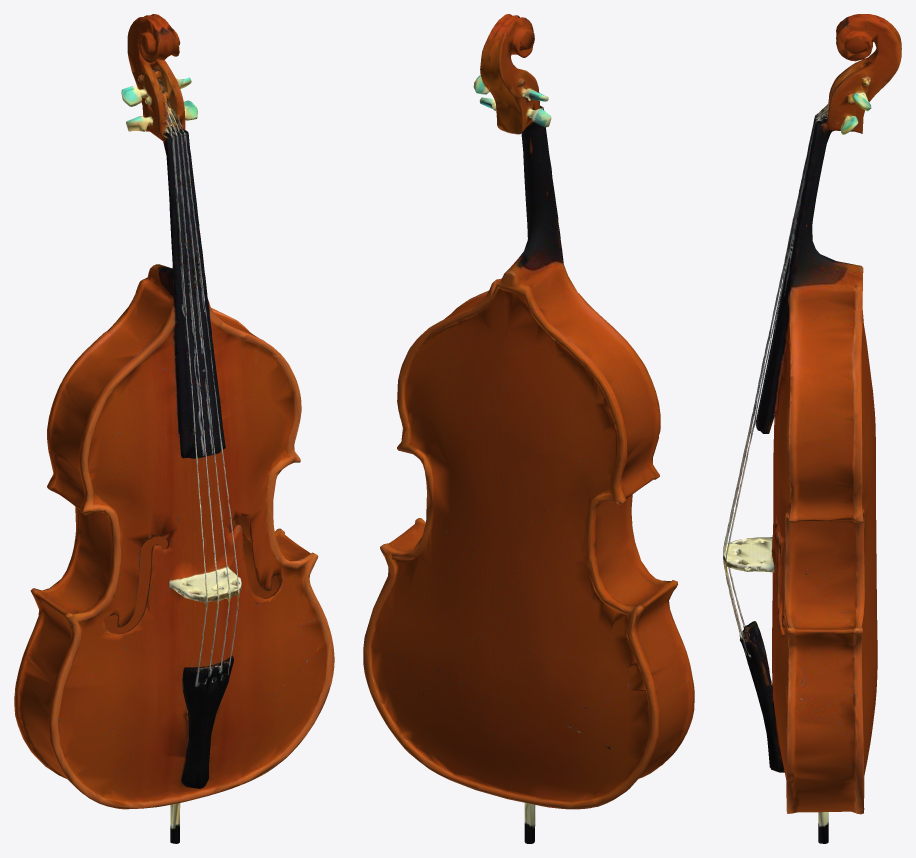
The model's file is bass.glb.
The picture shows the model from 3 angles, left to right: view 1: azimuth 30°, elevation 25°; view 2: azimuth 150°, elevation 25°; view 3: azimuth 270°, elevation 25°; orthographic projection. The views are drawn at different scales.
Bounding box in the file's own units: 0.6951 × 1.9 × 0.3729.
1 material, 1 textured.
